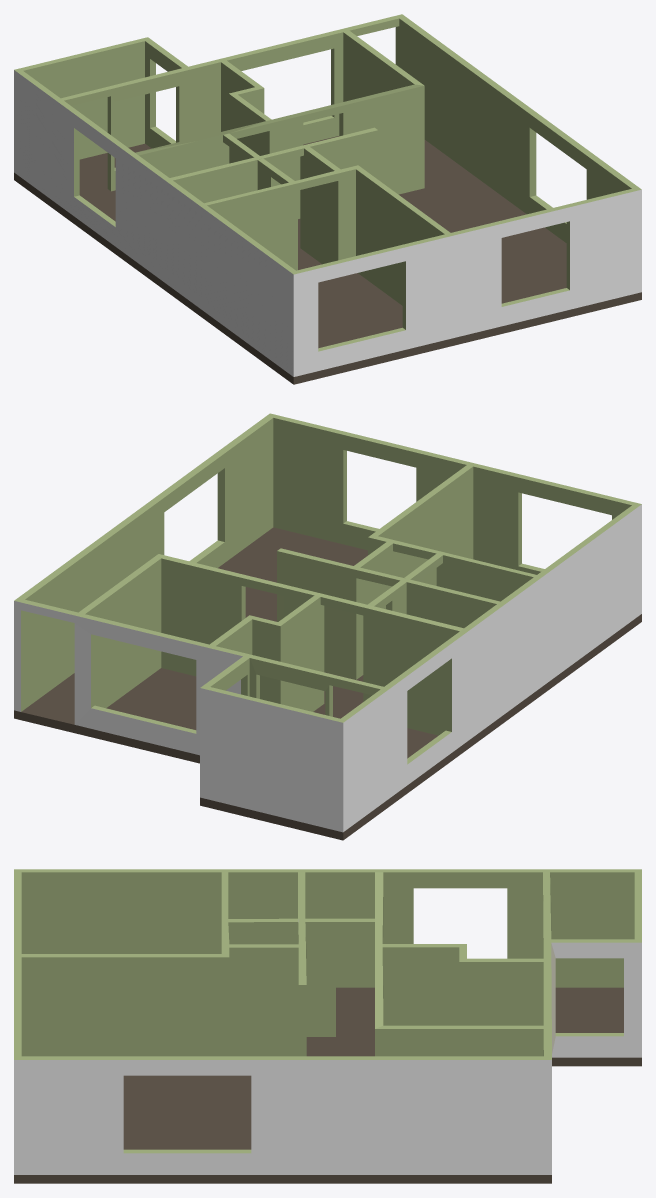
Rendered from Perspectiva.fbx.
The picture shows the model from 3 angles, top to bottom: view 1: azimuth 30°, elevation 25°; view 2: azimuth 150°, elevation 25°; view 3: azimuth 270°, elevation 25°; orthographic projection. The views are drawn at different scales.
Parts seen in each view (by area): view 1: Cube.005; view 2: Cube.005; view 3: Cube.005.
Part boxes in pixels (bbox=[...]): Cube.005: bbox=[14, 14, 641, 384]; Cube.005: bbox=[14, 413, 641, 840]; Cube.005: bbox=[14, 869, 641, 1183].
Bounding box in the file's own units: 10.59 × 3.2 × 14.74.
